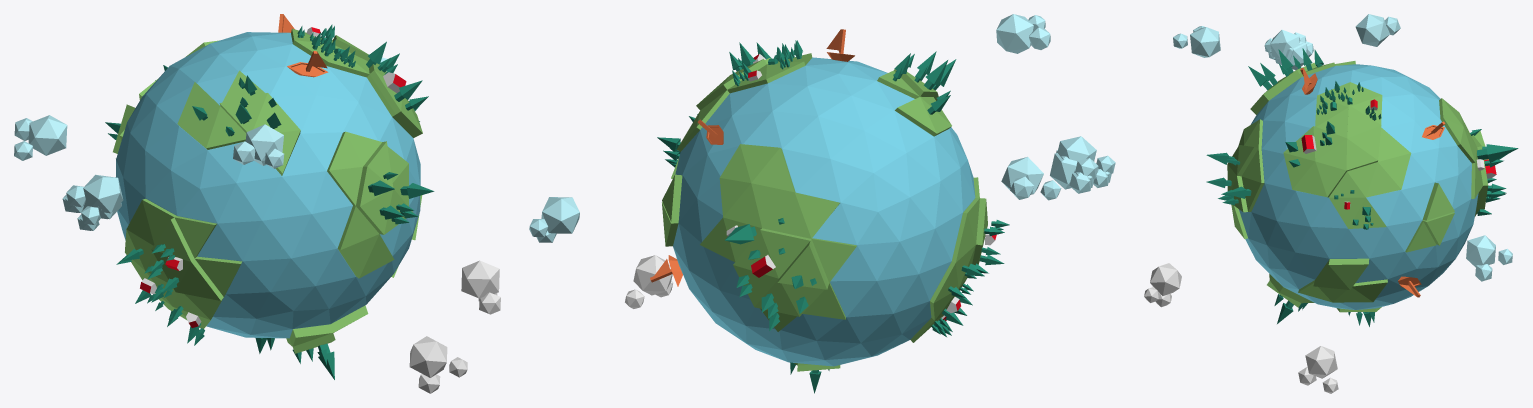
File: globetest1.glb
3 renders of one model, left to right at view 1: azimuth 30°, elevation 25°; view 2: azimuth 150°, elevation 25°; view 3: azimuth 270°, elevation 25°, orthographic. The views are drawn at different scales.
Parts seen in each view (by area): view 1: Icosphere.001, Icosphere, Plane.079, Icosphere.020, Icosphere.003, Icosphere.007, Icosphere.014, Icosphere.011, Plane, Plane.002; view 2: Icosphere.001, Icosphere, Plane.079, Icosphere.020, Icosphere.007, Icosphere.008, Icosphere.003, Plane.002, Icosphere.014, Plane; view 3: Icosphere.001, Icosphere, Plane.079, Icosphere.008, Icosphere.020, Icosphere.003, Icosphere.007, Plane.002, Icosphere.014, Icosphere.011, Plane.
Boxes of the visible parts, x1,y1,x2,y2 form: Icosphere.001: [115, 32, 420, 338]; Icosphere: [113, 28, 422, 353]; Plane.079: [105, 24, 434, 379]; Icosphere.020: [62, 174, 123, 230]; Icosphere.003: [14, 115, 67, 160]; Icosphere.007: [233, 124, 284, 168]; Icosphere.014: [461, 260, 499, 298]; Icosphere.011: [409, 336, 447, 377]; Plane: [140, 27, 406, 327]; Plane.002: [278, 14, 328, 77]; Icosphere.001: [673, 57, 975, 366]; Icosphere: [662, 53, 987, 371]; Plane.079: [657, 40, 1009, 393]; Icosphere.020: [1050, 136, 1115, 193]; Icosphere.007: [996, 14, 1050, 53]; Icosphere.008: [529, 197, 579, 242]; Icosphere.003: [1001, 157, 1061, 200]; Plane.002: [650, 29, 854, 286]; Icosphere.014: [633, 255, 672, 295]; Plane: [726, 53, 996, 320]; Icosphere.001: [1239, 64, 1478, 309]; Icosphere: [1227, 61, 1488, 312]; Plane.079: [1206, 48, 1518, 326]; Icosphere.008: [1466, 235, 1512, 281]; Icosphere.020: [1264, 29, 1313, 70]; Icosphere.003: [1355, 14, 1400, 46]; Icosphere.007: [1173, 26, 1220, 57]; Plane.002: [1300, 68, 1445, 297]; Icosphere.014: [1305, 346, 1337, 378]; Icosphere.011: [1150, 263, 1181, 295]; Plane: [1301, 99, 1496, 209].
Bounding box in the file's own units: 3.47 × 2.4 × 3.08.
